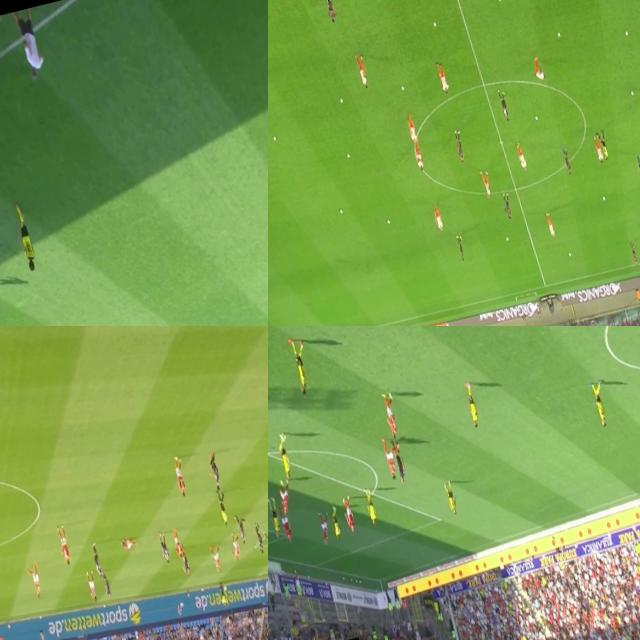ball: (338, 94, 346, 107), (556, 28, 562, 39), (338, 206, 344, 217), (178, 599, 184, 610), (344, 152, 352, 160), (624, 29, 630, 39), (532, 113, 538, 123), (600, 194, 606, 204), (432, 20, 438, 27), (386, 217, 392, 224), (399, 82, 404, 90), (568, 250, 572, 258), (504, 235, 508, 243), (273, 134, 277, 141), (630, 90, 634, 96), (496, 0, 501, 2)
player: (13, 205, 40, 275), (287, 338, 314, 396), (588, 379, 612, 432), (274, 431, 296, 483), (378, 394, 402, 439), (462, 382, 483, 432), (274, 473, 294, 520), (55, 524, 75, 570), (172, 454, 192, 499), (362, 487, 382, 529), (382, 441, 401, 482), (340, 494, 358, 536), (26, 562, 44, 603), (225, 528, 245, 564), (206, 448, 222, 492), (82, 568, 100, 606), (90, 541, 106, 583), (232, 510, 248, 548), (268, 498, 283, 538), (433, 60, 450, 95), (156, 530, 172, 566), (328, 505, 344, 541), (207, 540, 223, 575), (444, 481, 459, 518), (353, 54, 369, 88), (495, 86, 510, 121), (514, 139, 529, 172), (452, 128, 466, 162), (170, 524, 184, 558), (412, 138, 426, 171), (478, 165, 492, 198), (530, 54, 546, 82), (318, 514, 332, 546), (559, 145, 574, 174), (178, 545, 192, 576), (100, 570, 113, 602), (321, 0, 337, 24), (501, 191, 514, 220), (406, 112, 418, 143), (282, 513, 294, 544), (454, 230, 466, 260), (253, 524, 265, 554), (432, 202, 444, 231), (628, 238, 638, 268), (119, 537, 138, 548), (634, 154, 640, 183), (265, 531, 268, 559)
